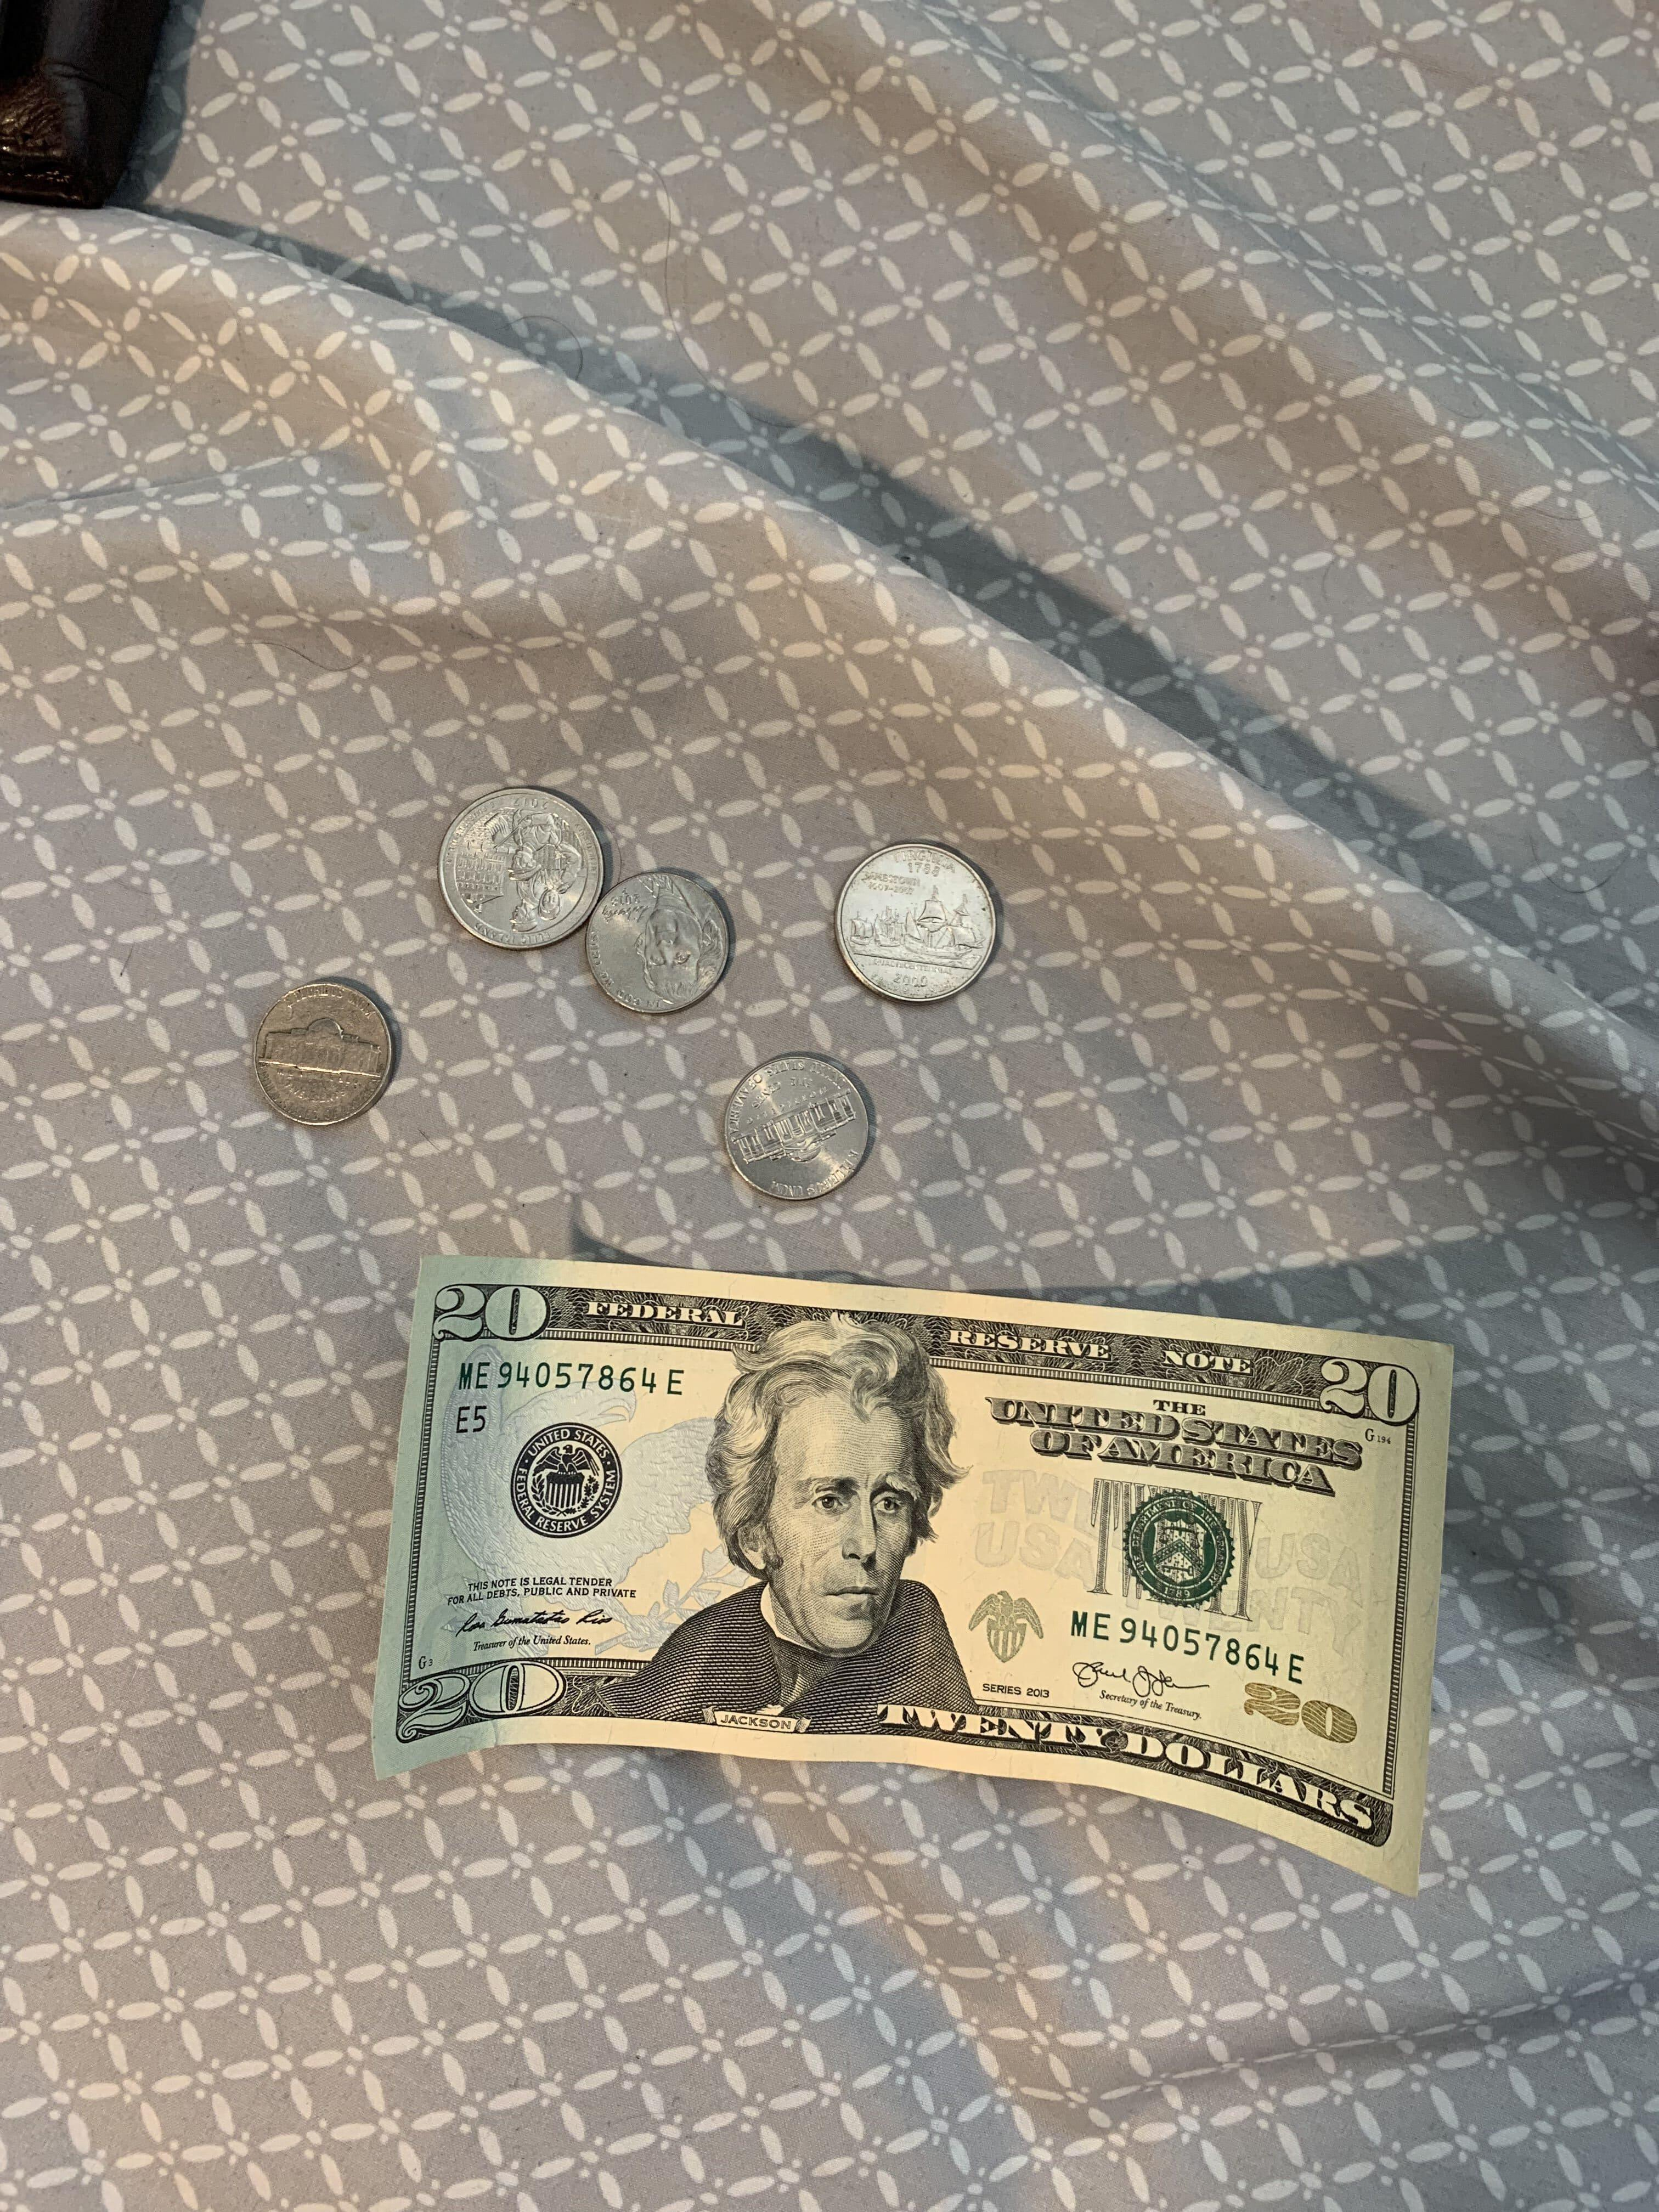Nickel: (209, 948, 416, 1141), (697, 1035, 903, 1217), (575, 859, 756, 1022)
Quarter: (802, 822, 1025, 1040), (408, 766, 619, 968)
TwentyBill: (342, 1228, 1542, 1956)
